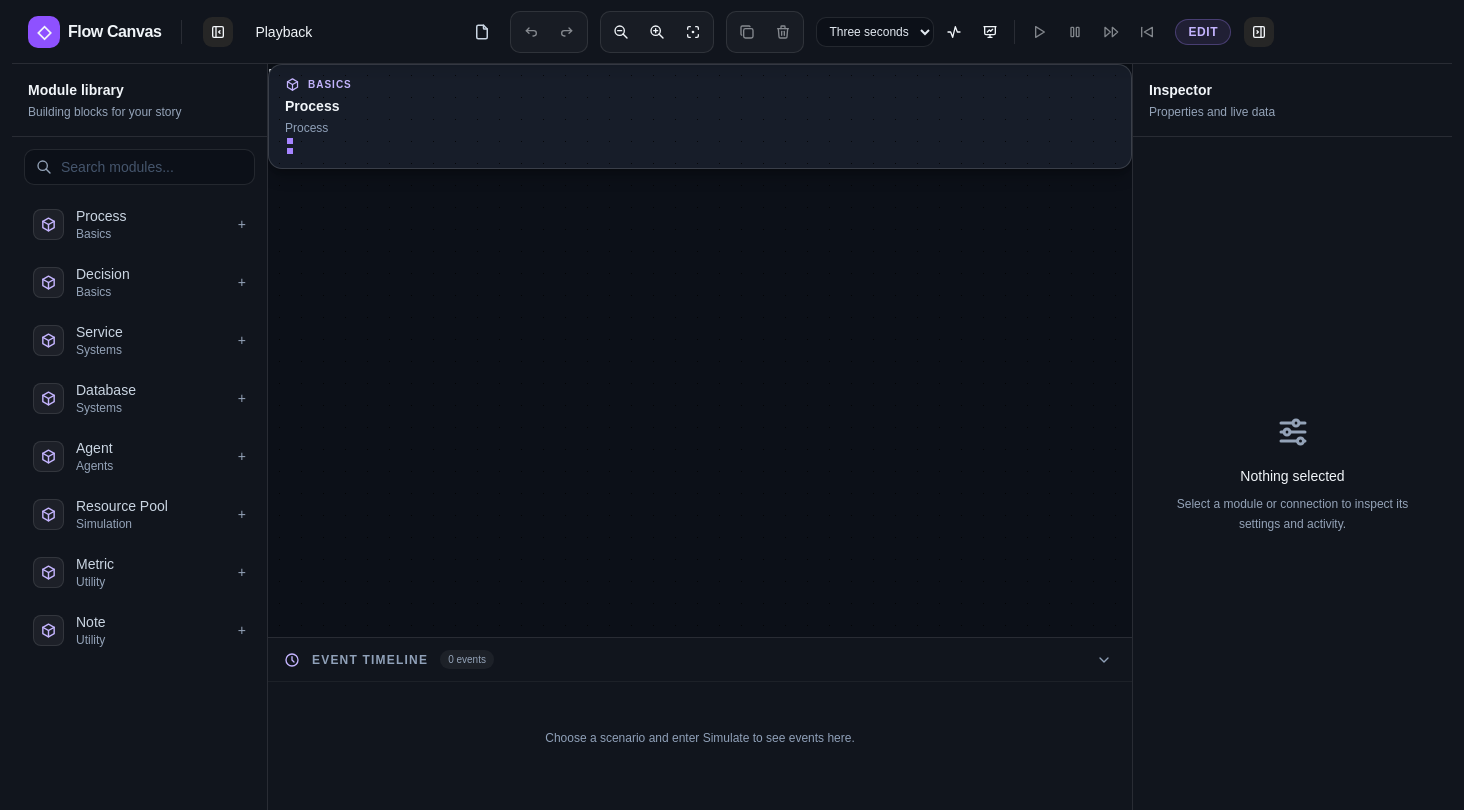
Test: editor playback bridge › connects mode controls, status overlay and timeline without editing the document
What coordinates should you click on to do the following:
click the button named "Simulate"
I would click on:
 (954, 32)
Its box is x1=938 y1=16 x2=970 y2=48.
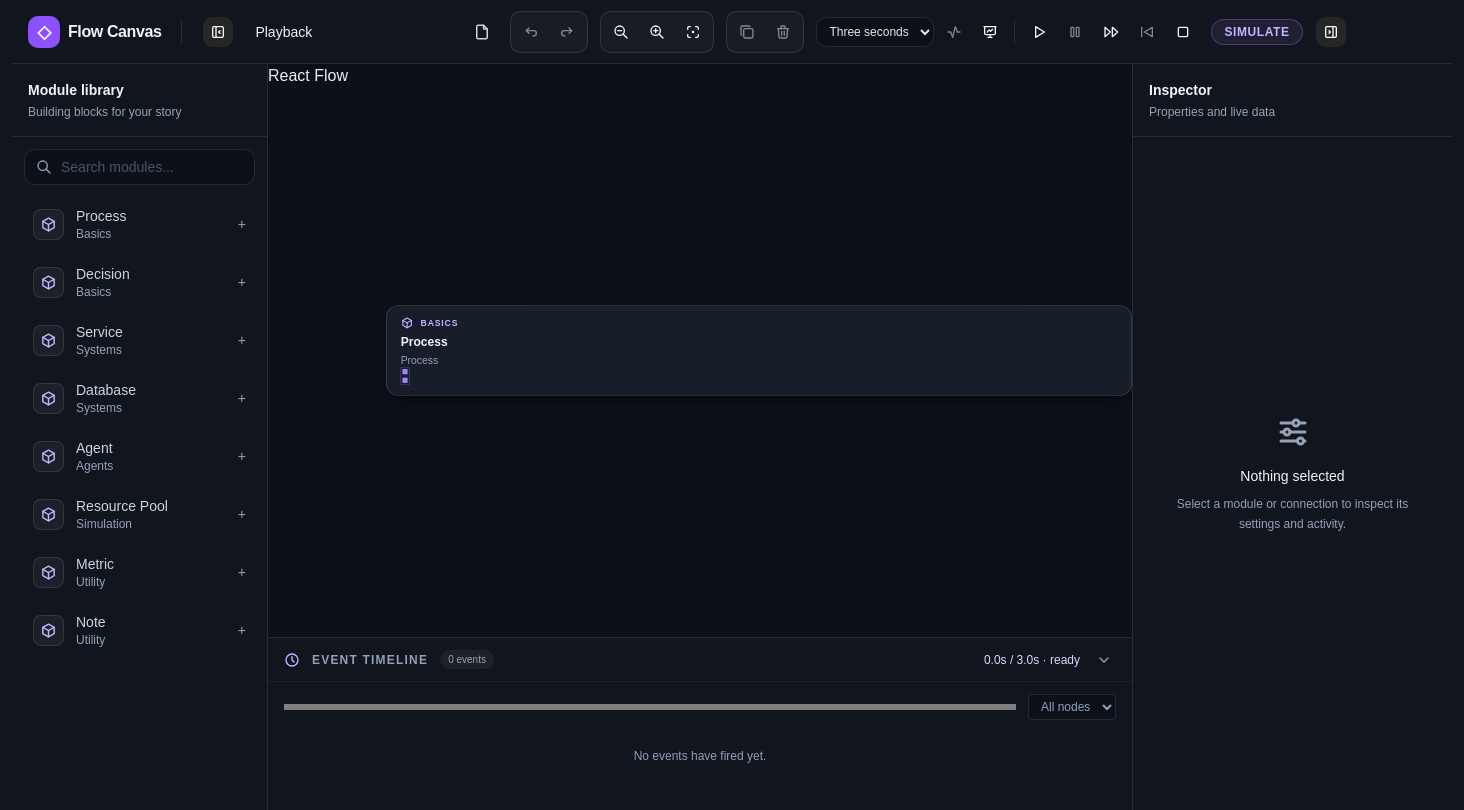
Check: the button "Process Basics +" is disabled, box x1=24 y1=197 x2=255 y2=251
Check: the text "simulate" is shown, box x1=1211 y1=18 x2=1303 y2=44
What coordinates should you click on to do the following:
click the button named "Step"
I would click on:
 (1111, 32)
Its box is x1=1095 y1=16 x2=1127 y2=48.
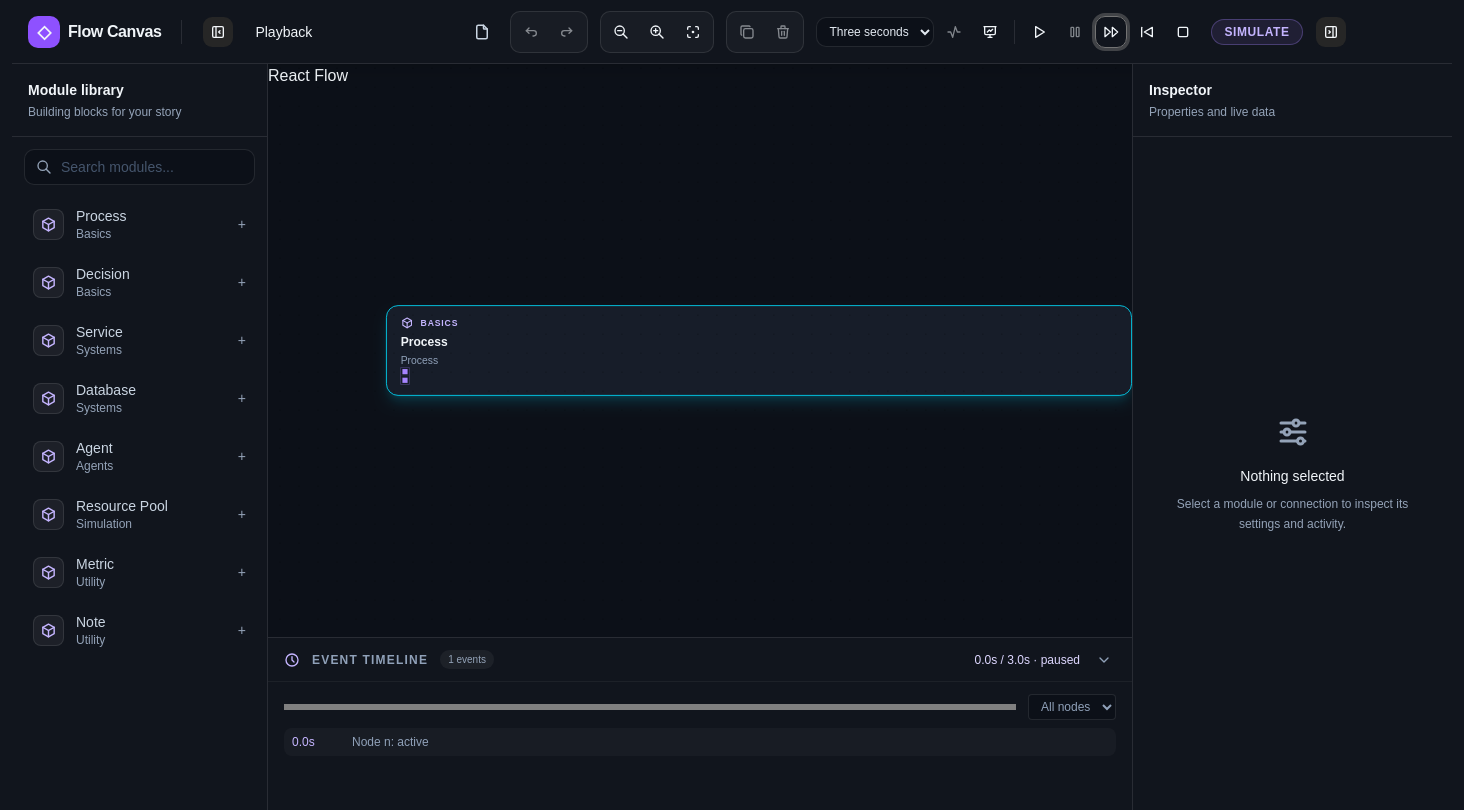
Check: the text "Node n: active" is shown, box x1=352 y1=734 x2=429 y2=750
What coordinates should you click on to do the following:
click the button named "Present"
I would click on:
 (990, 32)
Its box is x1=974 y1=16 x2=1006 y2=48.
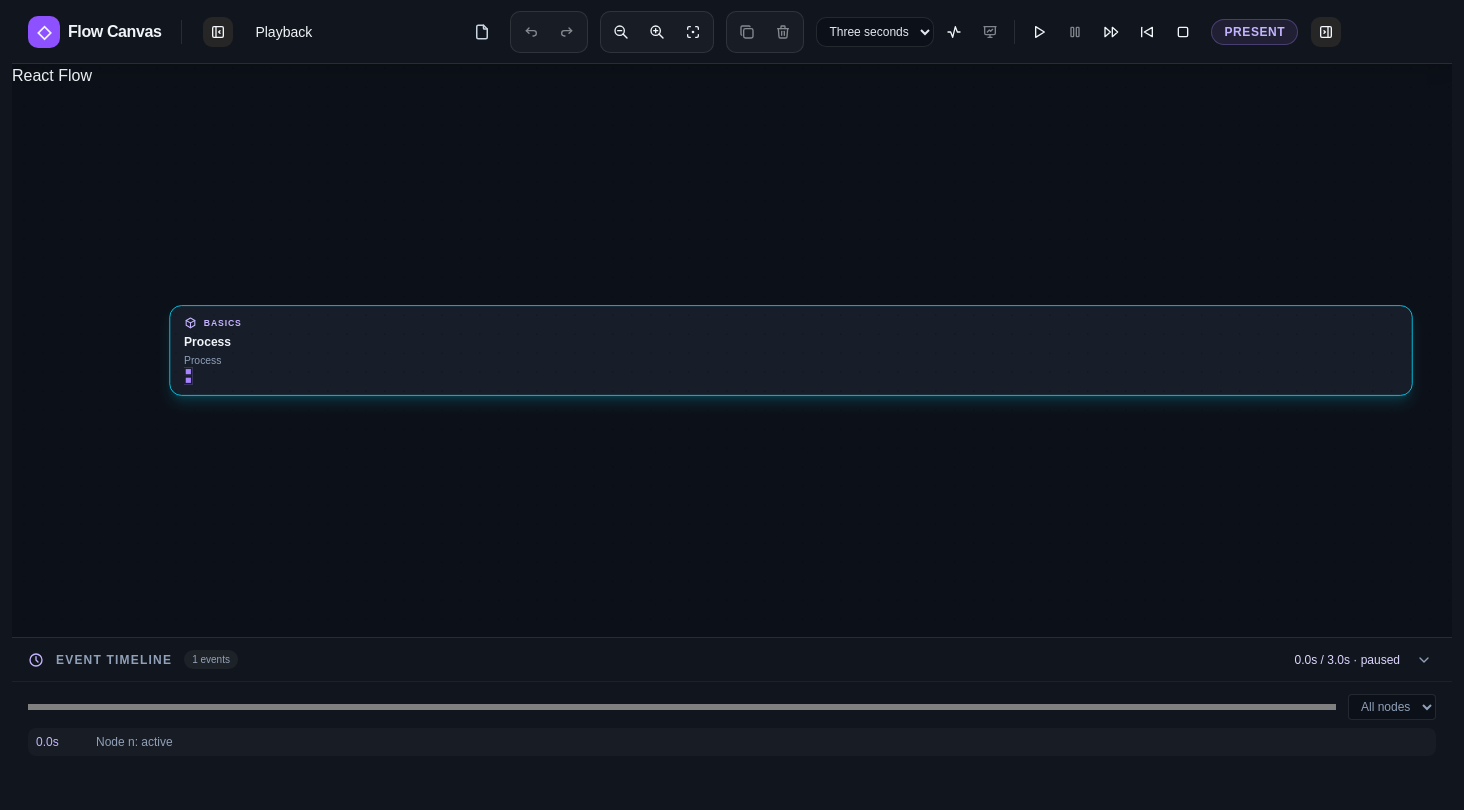
Check: the heading "Inspector" is gone
What coordinates should you click on to do the following:
click the button named "Exit playback"
I would click on:
 (1183, 32)
Its box is x1=1167 y1=16 x2=1199 y2=48.
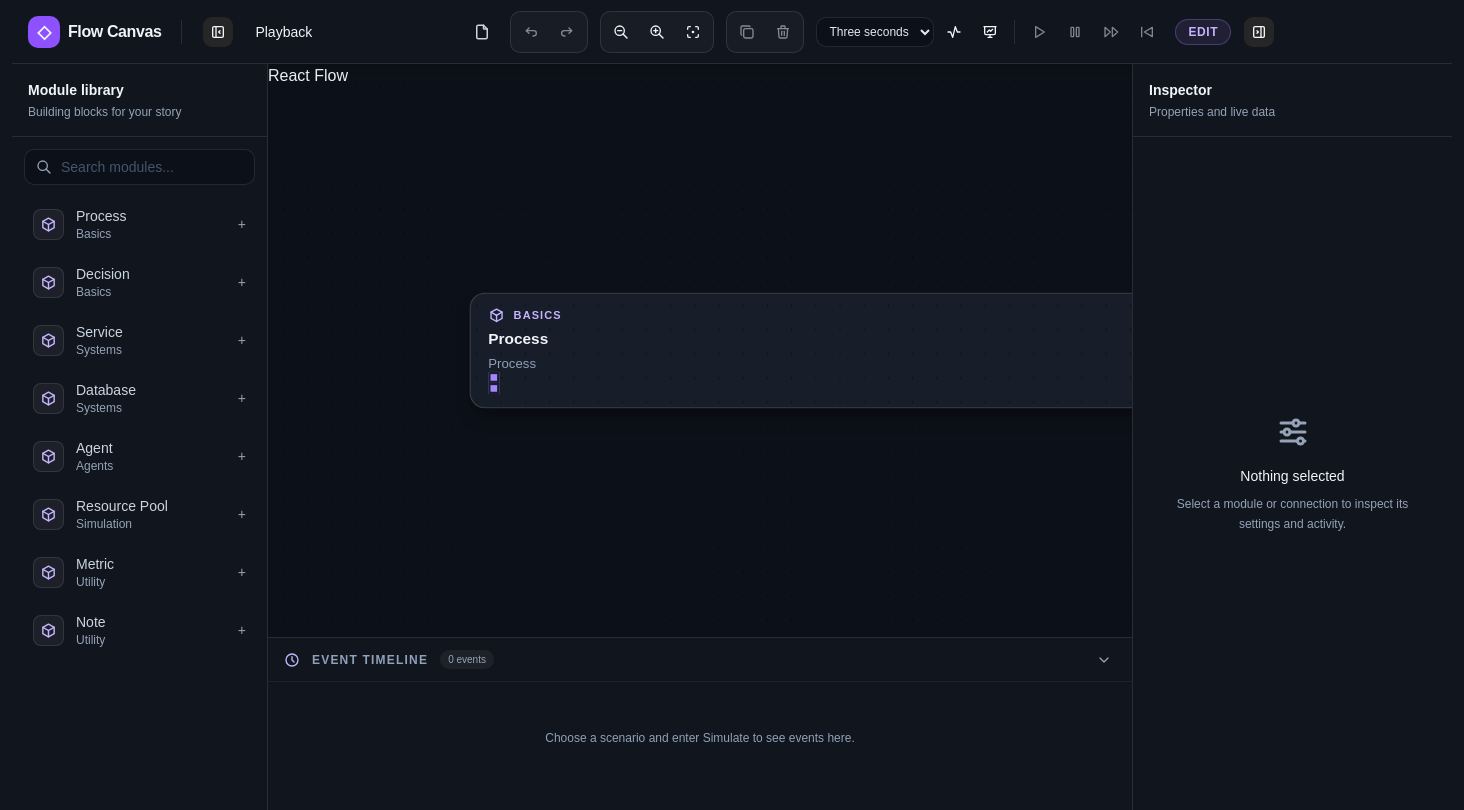
Check: the text "edit" is shown, box x1=1175 y1=18 x2=1231 y2=44
Check: the text "Node n: active" is gone
